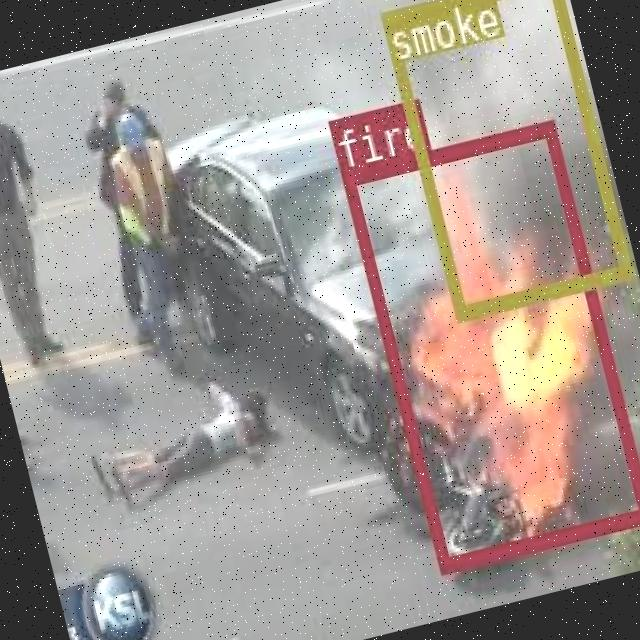fire: (338, 117, 640, 570)
smoke: (376, 0, 629, 318)
